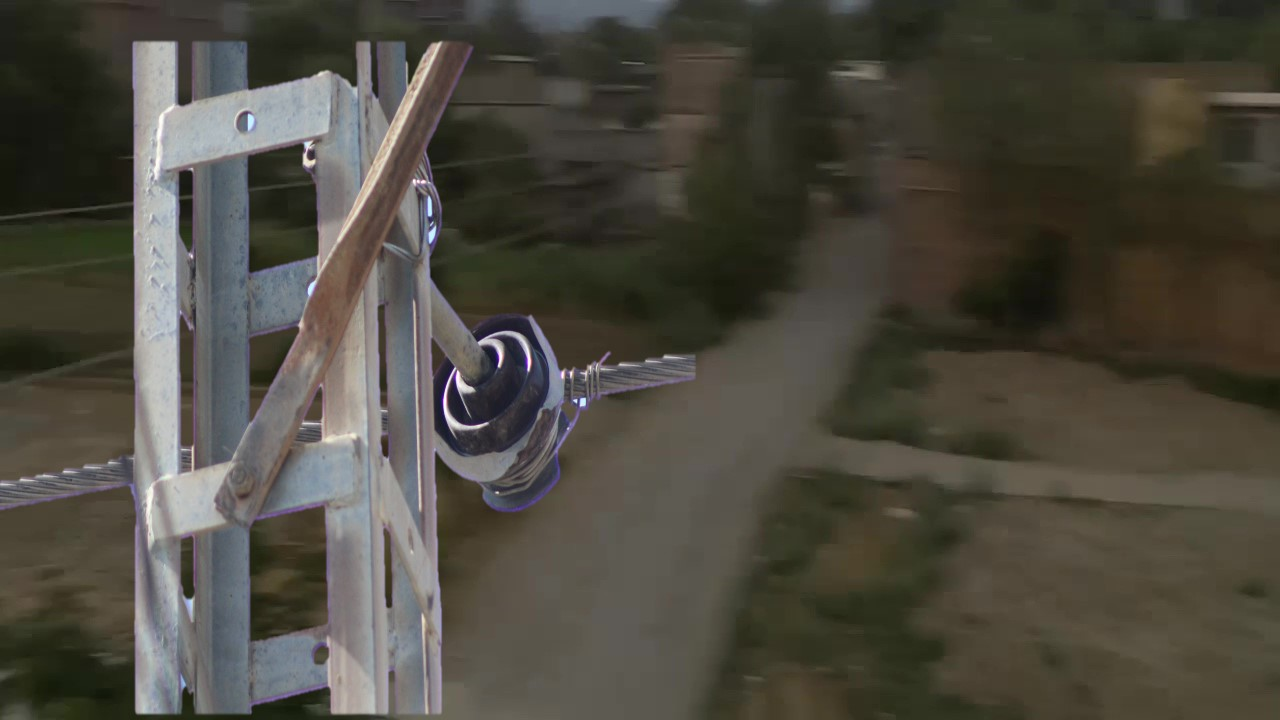defect_pin: (432, 294, 586, 522)
